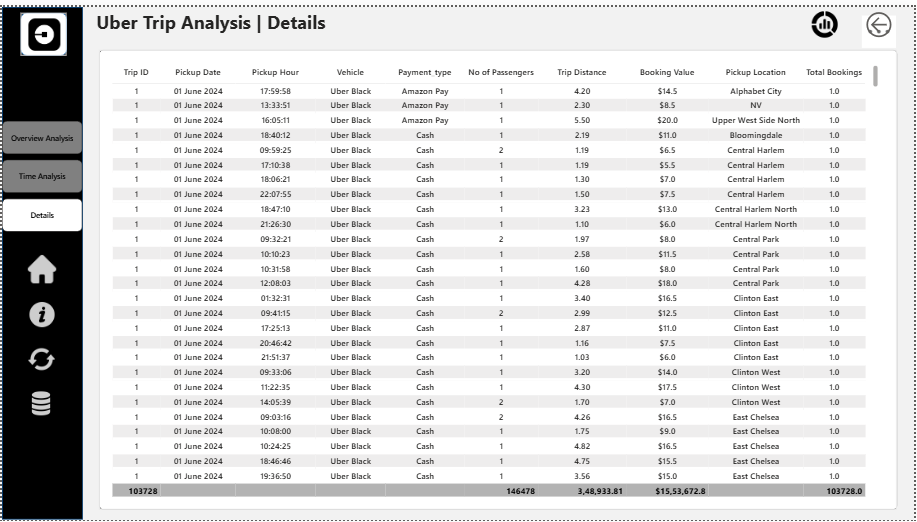

Layout of this report page (visuals, bound fields, positions):
{"tool":"powerbi","page":{"name":"Details","canvas":[1600,900],"ordinal":2},"visuals":[{"type":"shape","box":[0,0,142,899],"z":0},{"type":"textbox","box":[142.4,0,626,56.5],"z":1000},{"type":"shape","box":[169.1,75.4,1401,807.1],"z":2000},{"type":"actionButton","box":[1509.5,2.1,60.7,56.5],"z":3000},{"type":"tableEx","fields":{"Values":["CountNonNull(Trip Details.Trip ID)","Trip Details.Pickup Date","Trip Details.Pickup Hour ( HH MM SS)","Trip Details.Vehicle","Trip Details.Payment_type","Sum(Trip Details.passenger_count)","Trip Details.Total Trip Distance Measure","Trip Details.Total Booking Value","Location Table.Location","Trip Details.Total Bookings"]},"box":[186.3,98.4,1354.5,766.2],"z":4000},{"type":"image","box":[1409.2,6.9,66.8,46.1],"z":5000},{"type":"group","id":"g1","title":"Group 1","box":[31.4,10.5,81.6,75.4],"z":6000},{"type":"pageNavigator","box":[0,200.4,141.6,196.7],"z":7000},{"type":"image","box":[42.3,435.7,55.2,49.6],"z":8000},{"type":"image","box":[42.3,518.5,55.2,44.1],"z":9000},{"type":"image","box":[47.8,658.2,42.3,75.4],"z":10000},{"type":"image","box":[40.4,595.7,58.8,46],"z":12000},{"type":"shape","box":[31.4,10.5,81.6,75.4],"z":33000,"group":"g1"},{"type":"image","box":[37.7,21,69.1,56.5],"z":34000,"group":"g1"}]}

Visuals, with their boxes on the page's 1600x900 design canvas (x1, y1, x2, y2). These are canvas units, not pixel positions in the 917x522 screenshot, which may show the page scaled, cropped or inside an application window:
shape: <bbox>0, 0, 142, 899</bbox>
textbox: <bbox>142, 0, 768, 56</bbox>
shape: <bbox>169, 75, 1570, 882</bbox>
actionButton: <bbox>1510, 2, 1570, 59</bbox>
tableEx - CountNonNull(Trip Details.Trip ID) x Trip Details.Pickup Date: <bbox>186, 98, 1541, 865</bbox>
image: <bbox>1409, 7, 1476, 53</bbox>
"Group 1" group: <bbox>31, 10, 113, 86</bbox>
pageNavigator: <bbox>0, 200, 142, 397</bbox>
image: <bbox>42, 436, 98, 485</bbox>
image: <bbox>42, 518, 98, 563</bbox>
image: <bbox>48, 658, 90, 734</bbox>
image: <bbox>40, 596, 99, 642</bbox>
shape: <bbox>31, 10, 113, 86</bbox>
image: <bbox>38, 21, 107, 78</bbox>
